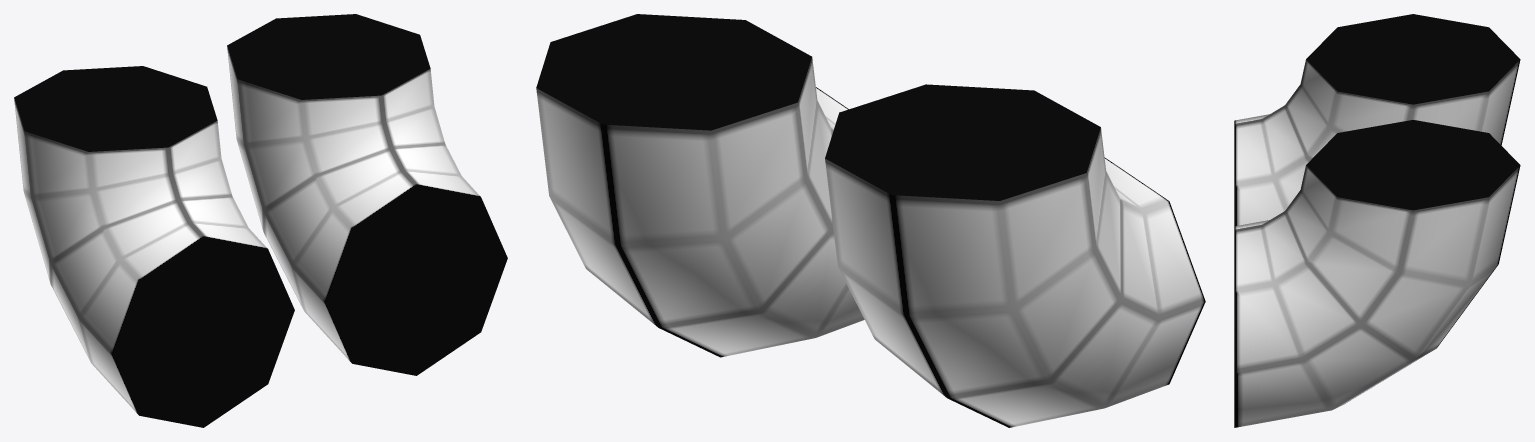
File: pipe-2.fbx
The picture shows the model from 3 angles, left to right: view 1: azimuth 30°, elevation 25°; view 2: azimuth 150°, elevation 25°; view 3: azimuth 270°, elevation 25°; orthographic projection. The views are drawn at different scales.
Parts seen in each view (by area): view 1: Object, Zplus, Yplus; view 2: Object, Yplus; view 3: Object, Yplus.
Part boxes in pixels (left/top/right/bottom): Object: left=14, top=46, right=480, bottom=414; Zplus: left=112, top=185, right=507, bottom=427; Yplus: left=14, top=14, right=430, bottom=151; Object: left=536, top=57, right=1205, bottom=427; Yplus: left=536, top=14, right=1100, bottom=200; Object: left=1234, top=59, right=1520, bottom=427; Yplus: left=1306, top=14, right=1520, bottom=210.
Size of the model in its own units: 65 by 40 by 40.
